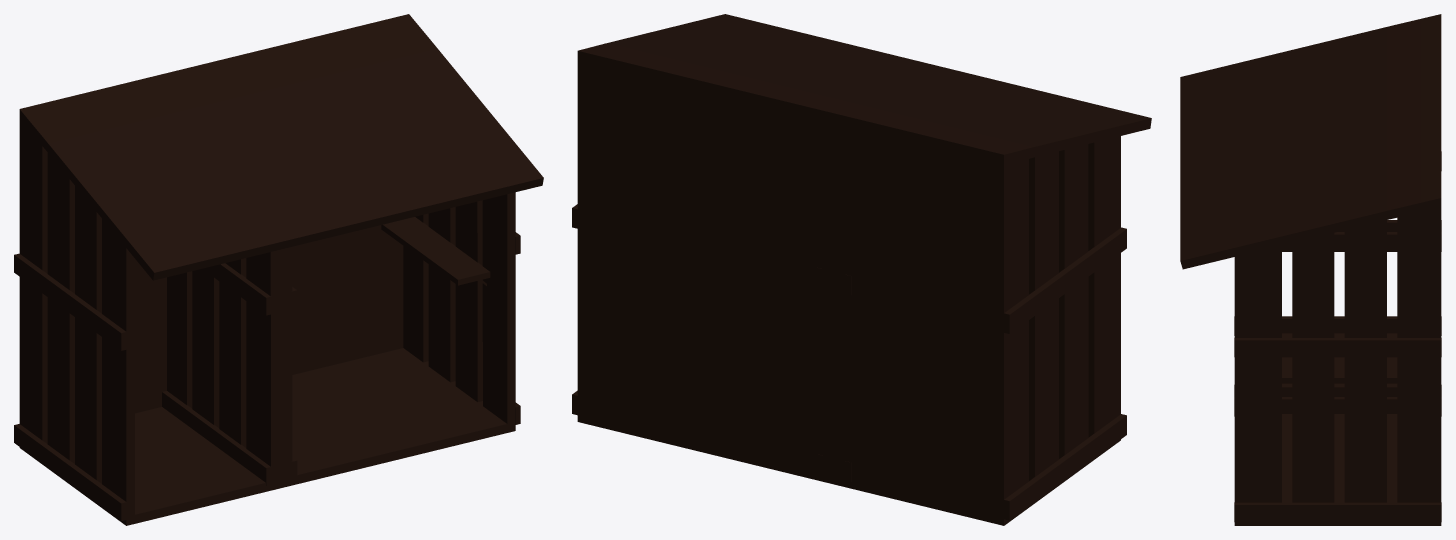
The model's file is WoodShed_FBX.fbx.
The picture shows the model from 3 angles, left to right: view 1: azimuth 30°, elevation 25°; view 2: azimuth 150°, elevation 25°; view 3: azimuth 270°, elevation 25°; orthographic projection. The views are drawn at different scales.
Parts seen in each view (by area): view 1: Box021, Box030, Box024, Box025, Box027, Box026; view 2: Box021, Box024, Box025; view 3: Box021, Box023, Box022, Box030, Box025, Box029, Box028, Box027.
Part boxes in pixels (x1=…): Box021: x1=19, y1=14, x2=543, y2=525; Box030: x1=381, y1=217, x2=490, y2=285; Box024: x1=14, y1=253, x2=126, y2=350; Box025: x1=14, y1=424, x2=126, y2=521; Box027: x1=162, y1=391, x2=271, y2=485; Box026: x1=202, y1=263, x2=271, y2=315; Box021: x1=577, y1=14, x2=1151, y2=525; Box024: x1=1003, y1=227, x2=1126, y2=333; Box025: x1=1003, y1=414, x2=1126, y2=520; Box021: x1=1180, y1=14, x2=1441, y2=525; Box023: x1=1234, y1=502, x2=1441, y2=522; Box022: x1=1234, y1=337, x2=1441, y2=357; Box030: x1=1282, y1=362, x2=1397, y2=383; Box025: x1=1234, y1=316, x2=1441, y2=335; Box029: x1=1234, y1=397, x2=1441, y2=416; Box028: x1=1282, y1=232, x2=1441, y2=251; Box027: x1=1234, y1=384, x2=1441, y2=396.
Bounding box in the file's own units: 439 × 356 × 257.
